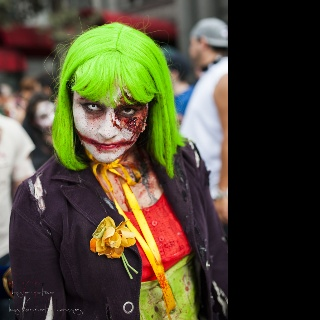without_mask: (189, 37, 201, 58)
